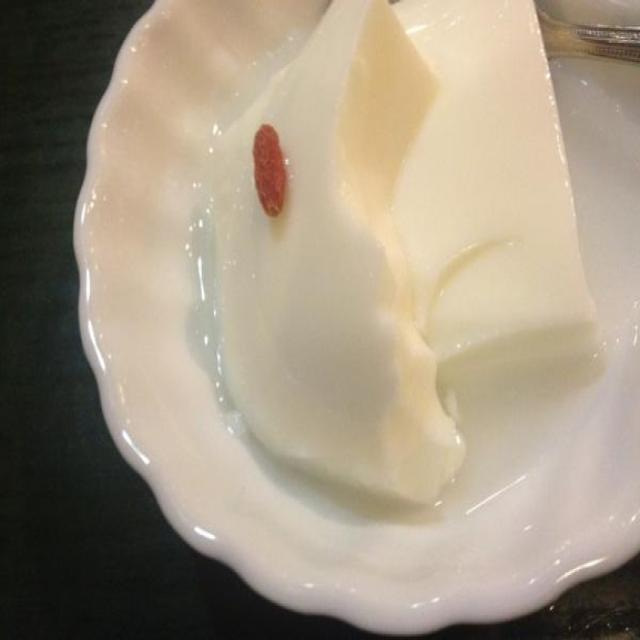面条主食: (19, 9, 602, 580)
